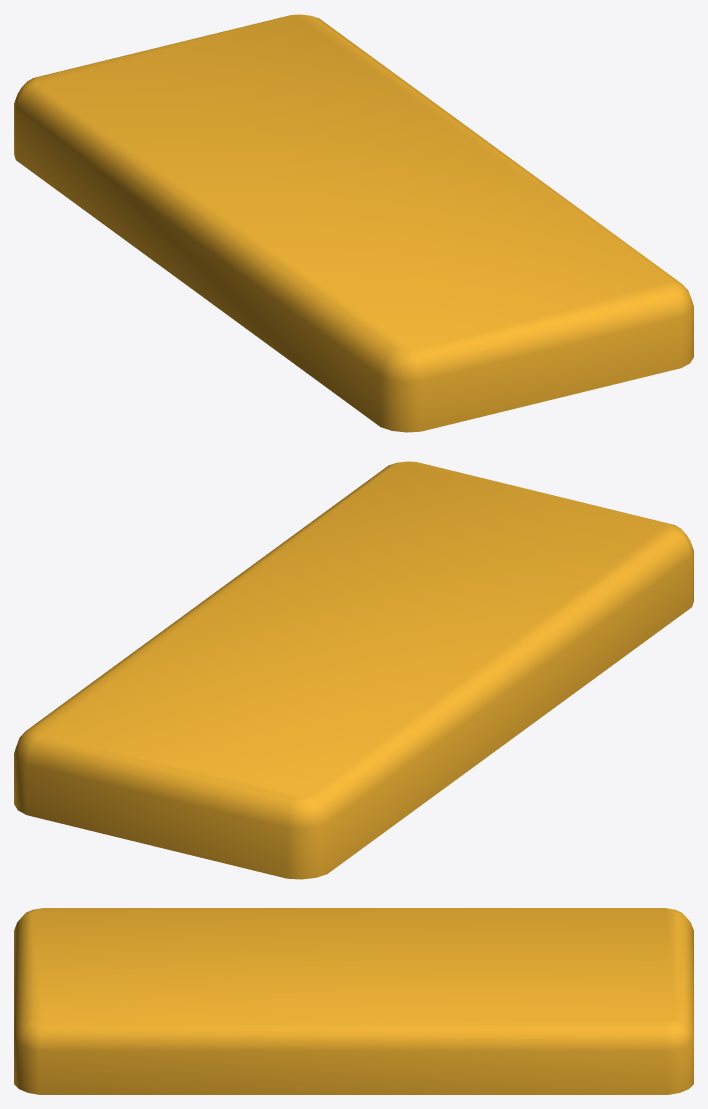
File: Bed_Single.fbx
3 views of the same model, one above another, from view 1: azimuth 30°, elevation 25°; view 2: azimuth 150°, elevation 25°; view 3: azimuth 270°, elevation 25° (orthographic). The views are drawn at different scales.
Parts seen in each view (by area): view 1: Bed_Single; view 2: Bed_Single; view 3: Bed_Single.
Part boxes in pixels (x1,y1,x2,y2): Bed_Single: [14, 14, 693, 432]; Bed_Single: [14, 461, 693, 879]; Bed_Single: [14, 908, 693, 1094].
Bounding box in the file's own units: 92.61 × 20.78 × 203.
1 material, 1 textured.
